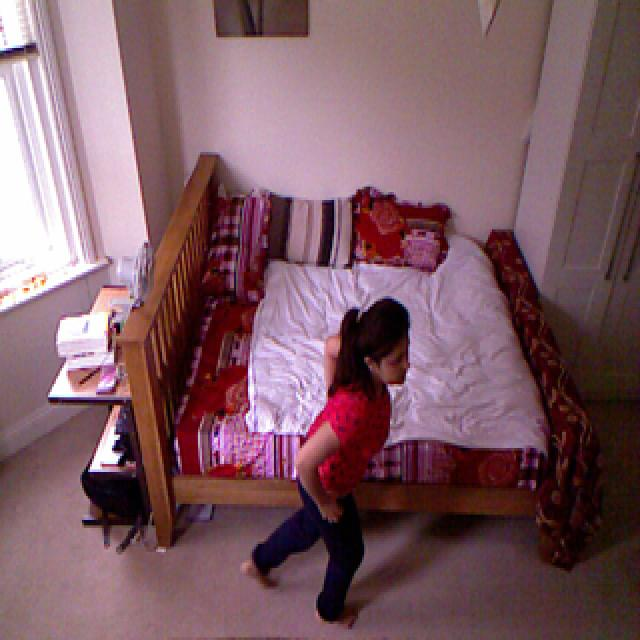standing: (252, 289, 412, 631)
